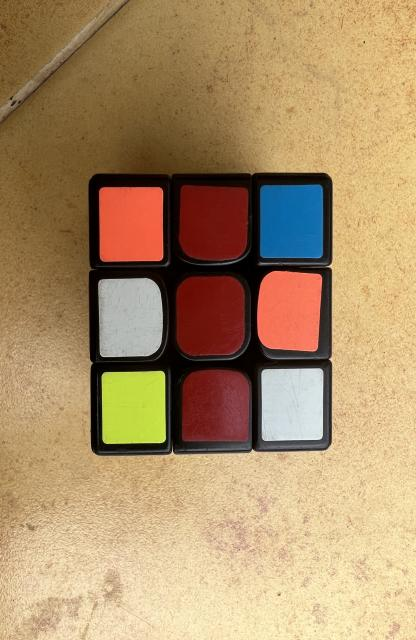Blue: (260, 185, 323, 259)
Orange: (257, 271, 322, 351), (99, 186, 164, 261)
Red: (177, 276, 245, 356), (179, 185, 248, 260), (182, 369, 250, 441)
White: (99, 278, 164, 358), (261, 369, 324, 441)
Yellow: (102, 371, 166, 444)
